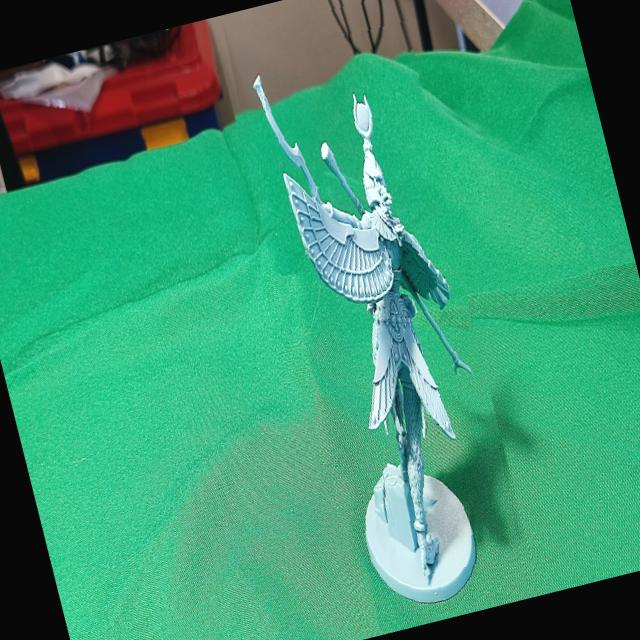isis: (204, 0, 546, 640)
